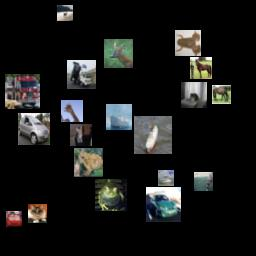automobile: (146, 187, 181, 222), (18, 113, 50, 145), (6, 211, 22, 227)
bird: (61, 100, 83, 122)
cat: (181, 82, 207, 108), (70, 124, 92, 146), (28, 204, 47, 223)
deer: (104, 39, 133, 68), (57, 5, 73, 21)
dog: (194, 172, 213, 191)
frog: (95, 179, 127, 211), (74, 148, 103, 177), (175, 30, 201, 56)
ship: (134, 116, 172, 154), (106, 104, 132, 130), (158, 170, 174, 186)
truck: (5, 74, 40, 109), (67, 60, 96, 89)
